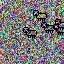sheep: (22, 26, 37, 39), (41, 21, 56, 33), (33, 9, 47, 21), (53, 23, 64, 35), (55, 18, 64, 30)
